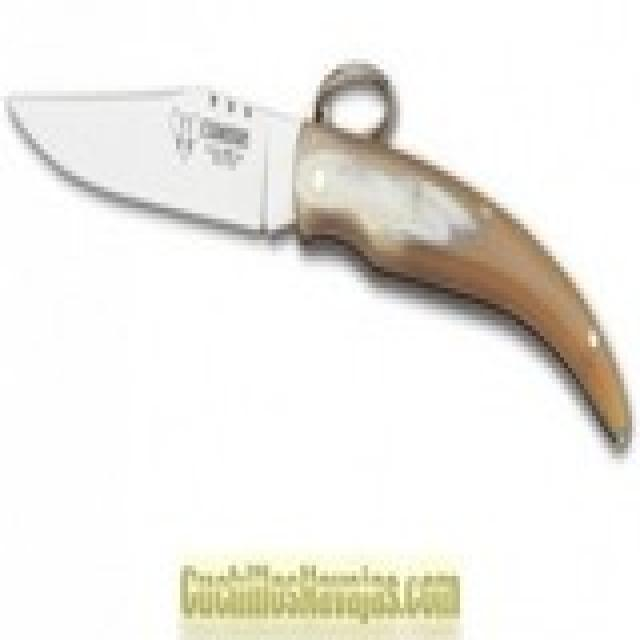Knife: (0, 53, 630, 453)
